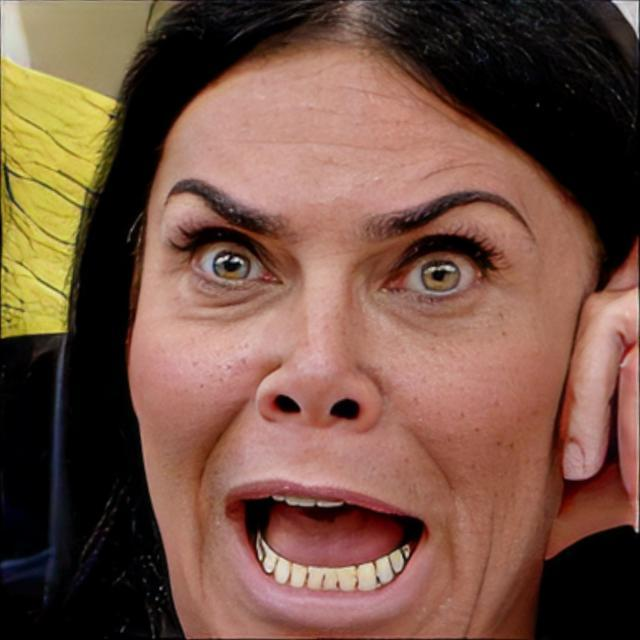fear: (127, 27, 599, 640)
